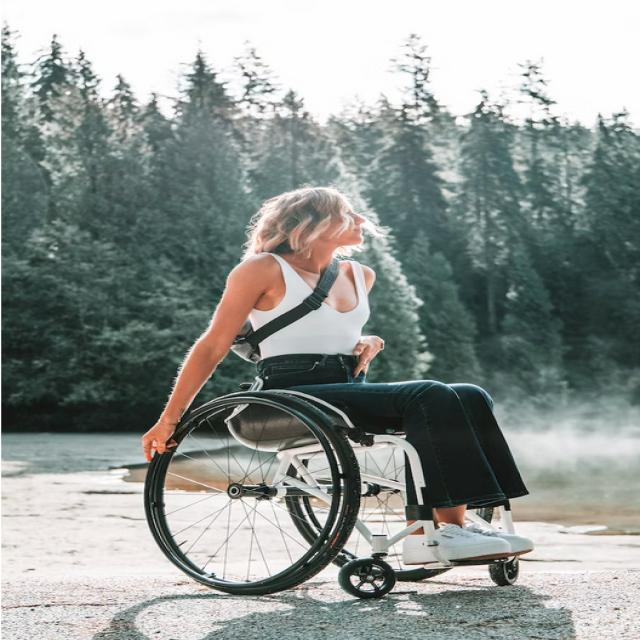wheelchairs: (145, 337, 526, 599)
